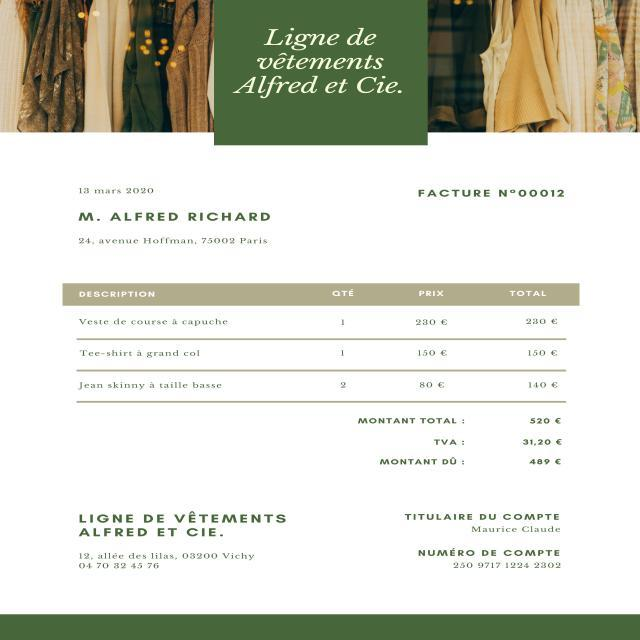ROI: (55, 286, 597, 404), (53, 177, 280, 254), (352, 410, 611, 477), (65, 510, 294, 582), (397, 507, 586, 584), (236, 22, 408, 105), (417, 182, 565, 214)
